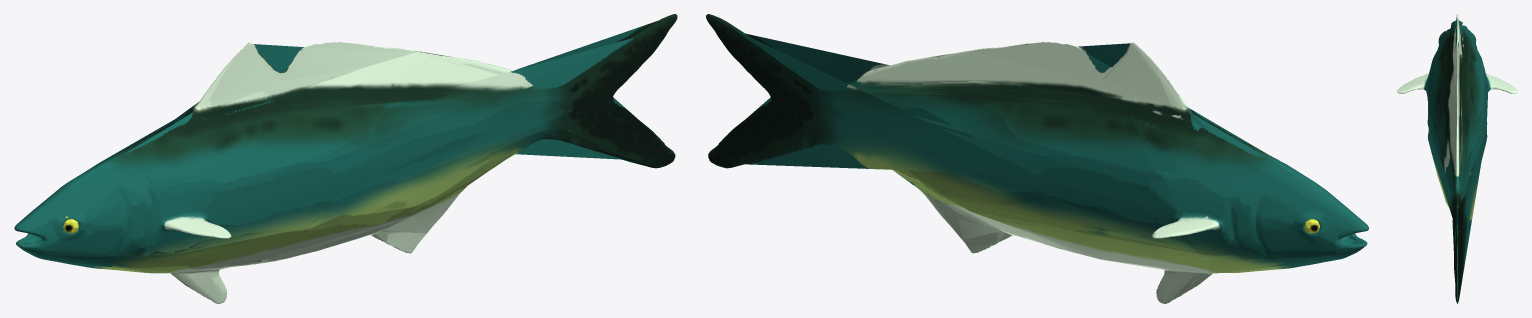
Rendered from COD.obj.
3 renders of one model, left to right at view 1: azimuth 30°, elevation 25°; view 2: azimuth 150°, elevation 25°; view 3: azimuth 270°, elevation 25°, orthographic. The views are drawn at different scales.
Visible parts, largest first — view 1: Icosphere; view 2: Icosphere; view 3: Icosphere.
Boxes of the visible parts, x1,y1,x2,y2 form: Icosphere: (14,14,677,303); Icosphere: (706,14,1368,303); Icosphere: (1397,14,1517,303).
Size of the model in its own units: 20.64 by 7.57 by 4.82.
1 material, 1 textured.
